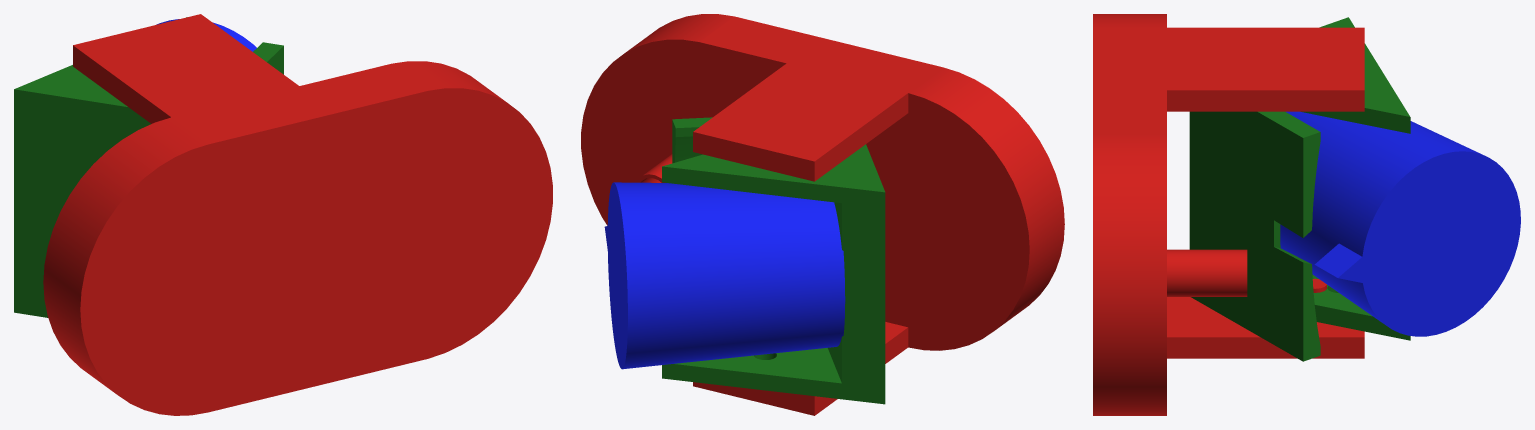
The model's file is test-holder-fixture.glb.
3 renders of one model, left to right at view 1: azimuth 30°, elevation 25°; view 2: azimuth 150°, elevation 25°; view 3: azimuth 270°, elevation 25°, orthographic. The views are drawn at different scales.
Bounding box in the file's own units: 0.2812 × 0.1524 × 0.2202.
